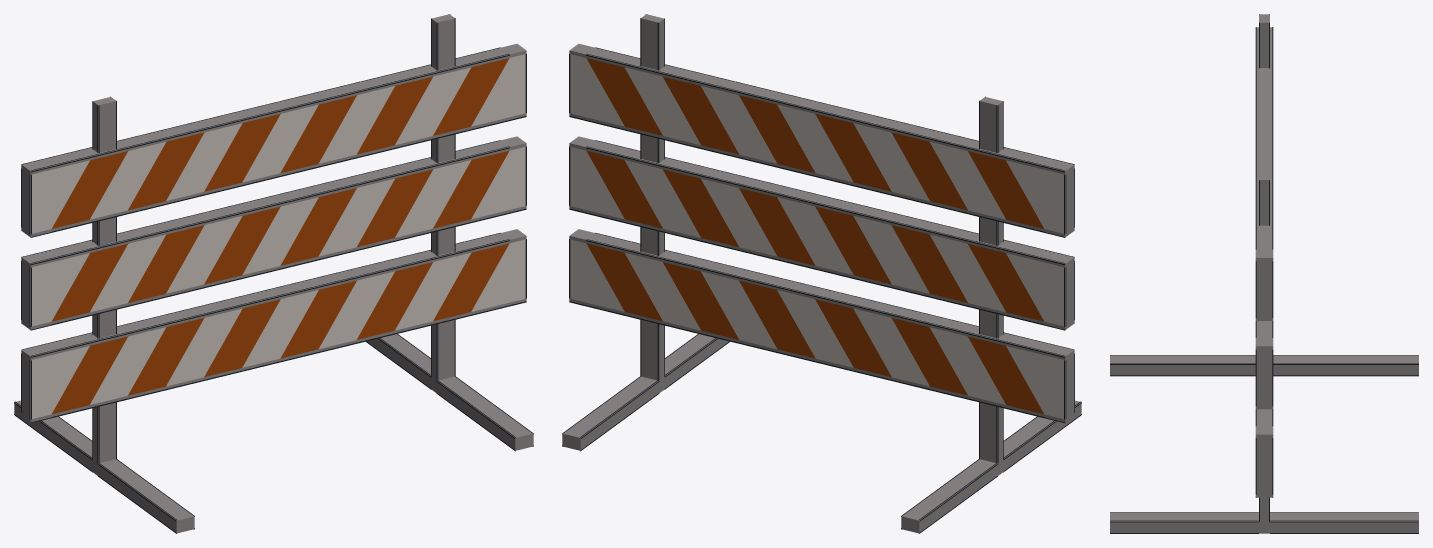
File: trafficbarrier_1.glb
3 views of the same model, side by side, from view 1: azimuth 30°, elevation 25°; view 2: azimuth 150°, elevation 25°; view 3: azimuth 270°, elevation 25° (orthographic). The views are drawn at different scales.
Parts seen in each view (by area): view 1: TrafficBarrier_1, TrafficBarrier_1_StructuralInk; view 2: TrafficBarrier_1, TrafficBarrier_1_StructuralInk; view 3: TrafficBarrier_1, TrafficBarrier_1_StructuralInk.
Part boxes in pixels (x1,y1,x2,y2): TrafficBarrier_1: (14, 14, 533, 533); TrafficBarrier_1_StructuralInk: (14, 14, 533, 533); TrafficBarrier_1: (562, 14, 1081, 533); TrafficBarrier_1_StructuralInk: (562, 14, 1081, 533); TrafficBarrier_1: (1110, 14, 1418, 533); TrafficBarrier_1_StructuralInk: (1110, 14, 1418, 533).
Size of the model in its own units: 1.56 by 1.11 by 0.8806.
Materials: 2 (1 with a texture image).
